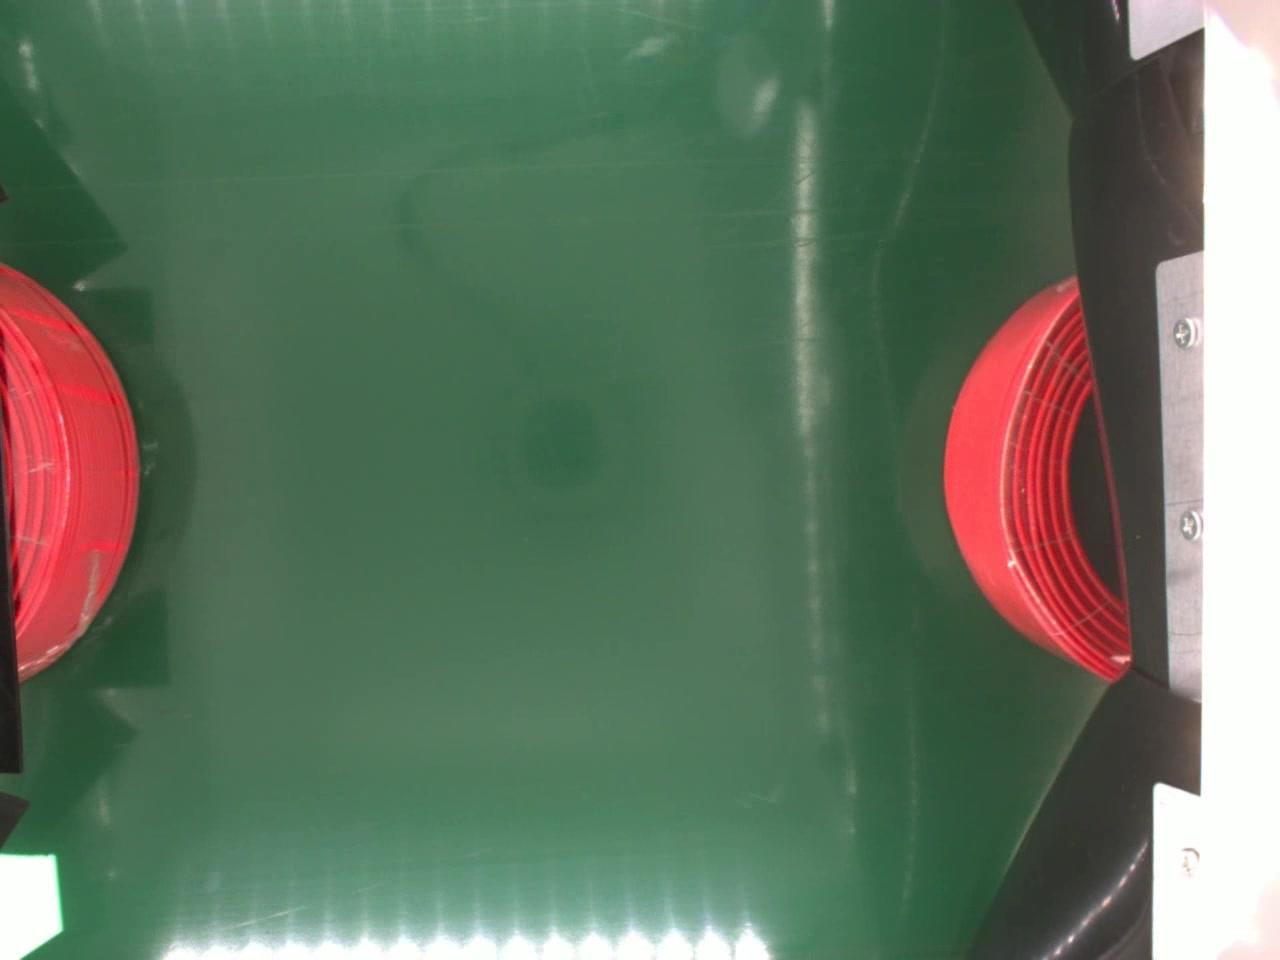red: (938, 266, 1129, 679), (0, 258, 143, 668)
